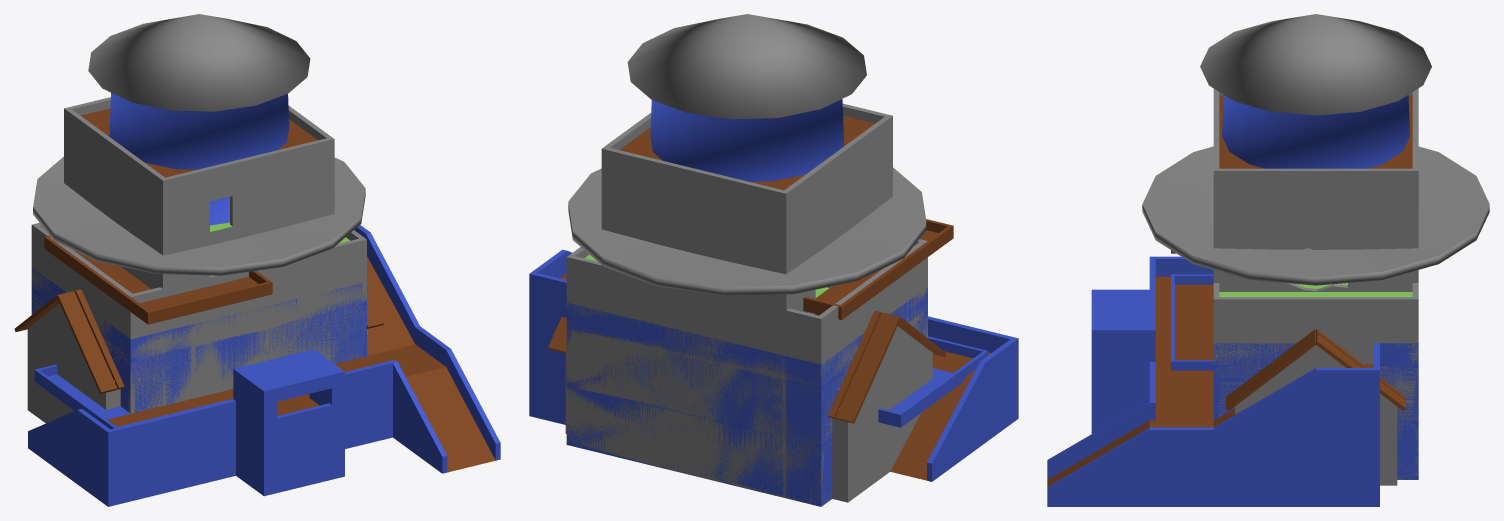
Rendered from Bandwagon.fbx.
3 renders of one model, left to right at view 1: azimuth 30°, elevation 25°; view 2: azimuth 150°, elevation 25°; view 3: azimuth 270°, elevation 25°, orthographic. The views are drawn at different scales.
Visible parts, largest first — view 1: Base, Water Tower, Tall Building, Wide Building, Barn; view 2: Tall Building, Water Tower, Base, Wide Building, Barn; view 3: Base, Water Tower, Tall Building, Wide Building, Barn.
Boxes of the visible parts, bbox=[...] form: Base: bbox=[28, 225, 500, 506]; Water Tower: bbox=[33, 14, 365, 275]; Tall Building: bbox=[44, 97, 334, 405]; Wide Building: bbox=[31, 223, 366, 429]; Barn: bbox=[14, 285, 384, 423]; Tall Building: bbox=[601, 103, 953, 497]; Water Tower: bbox=[568, 14, 926, 295]; Base: bbox=[529, 249, 1018, 506]; Wide Building: bbox=[566, 239, 988, 505]; Barn: bbox=[548, 310, 946, 502]; Base: bbox=[1047, 256, 1418, 506]; Water Tower: bbox=[1142, 14, 1489, 285]; Tall Building: bbox=[1171, 88, 1418, 291]; Wide Building: bbox=[1171, 274, 1418, 479]; Barn: bbox=[1226, 329, 1405, 485].
Size of the model in its own units: 2120 by 2323 by 2288.
